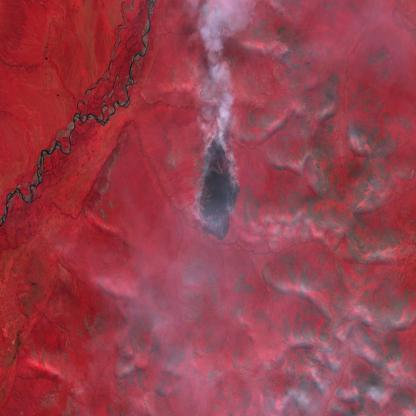fire: (196, 128, 241, 247)
